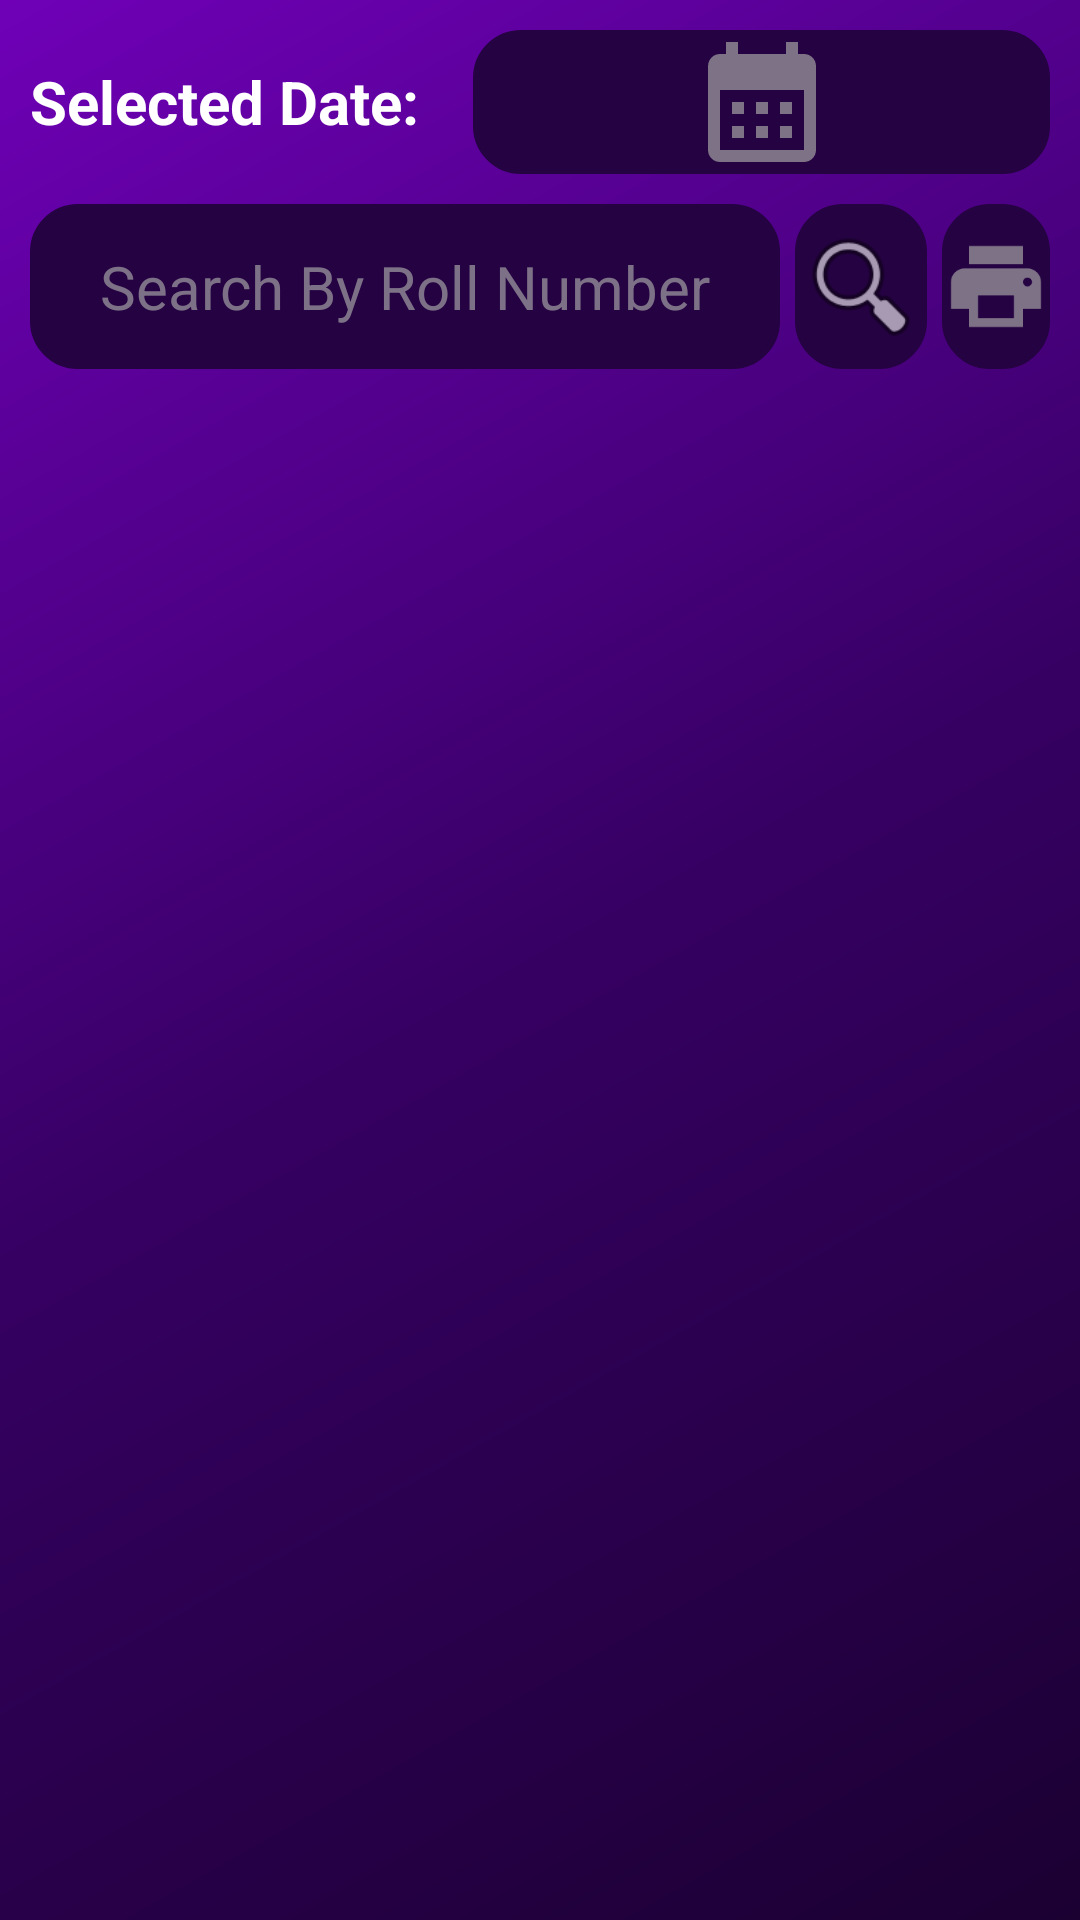

Named icons in this screenshot (1080 × 1920) and their bounding boxes, (left=x1, top=y1, right=x2, bottom=y2):
print: (left=942, top=204, right=1050, bottom=369)
